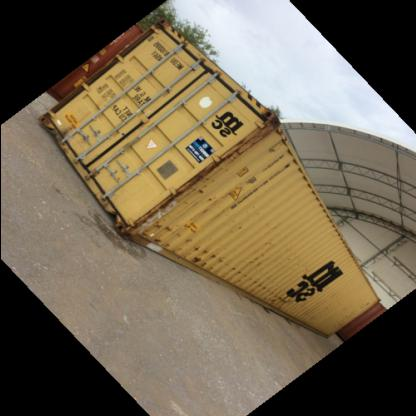Damage: (209, 254, 288, 309), (129, 182, 197, 241), (234, 106, 276, 154), (190, 152, 244, 188), (157, 232, 209, 268), (42, 107, 77, 158), (199, 182, 219, 206)
